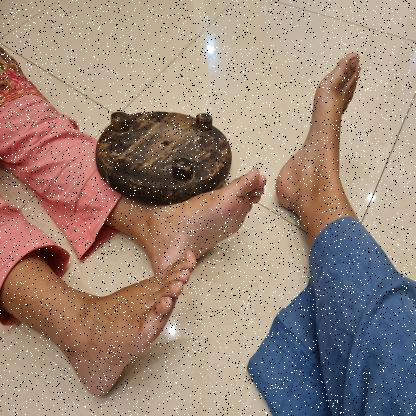leg: (0, 245, 200, 400), (104, 157, 270, 268), (272, 50, 364, 224)
